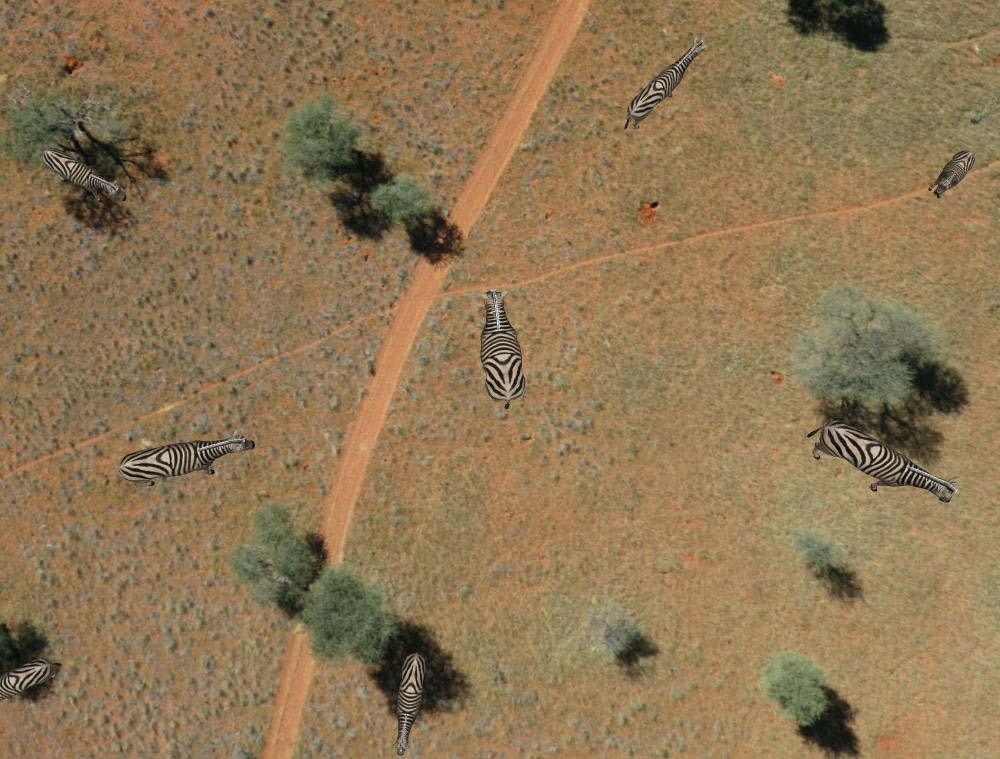zebra: (802, 407, 961, 515), (625, 35, 709, 132), (471, 283, 531, 410), (117, 435, 258, 486), (40, 140, 120, 213), (383, 651, 433, 759), (1, 658, 64, 718), (925, 140, 975, 208)
